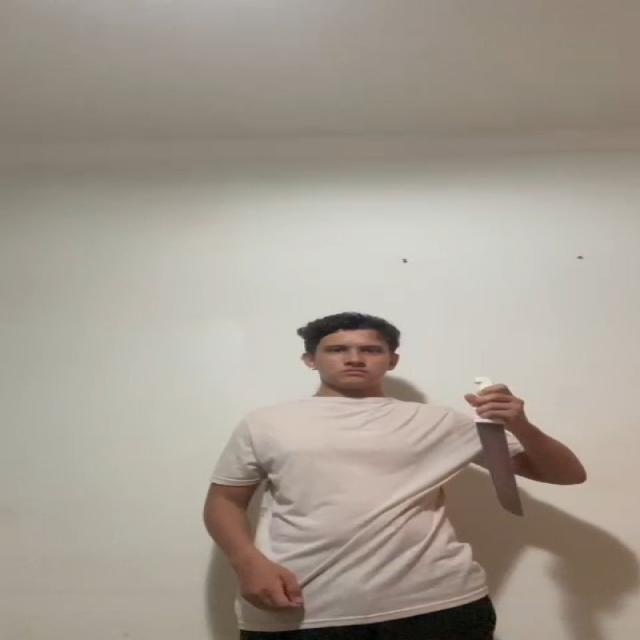knife: (478, 420, 520, 513)
